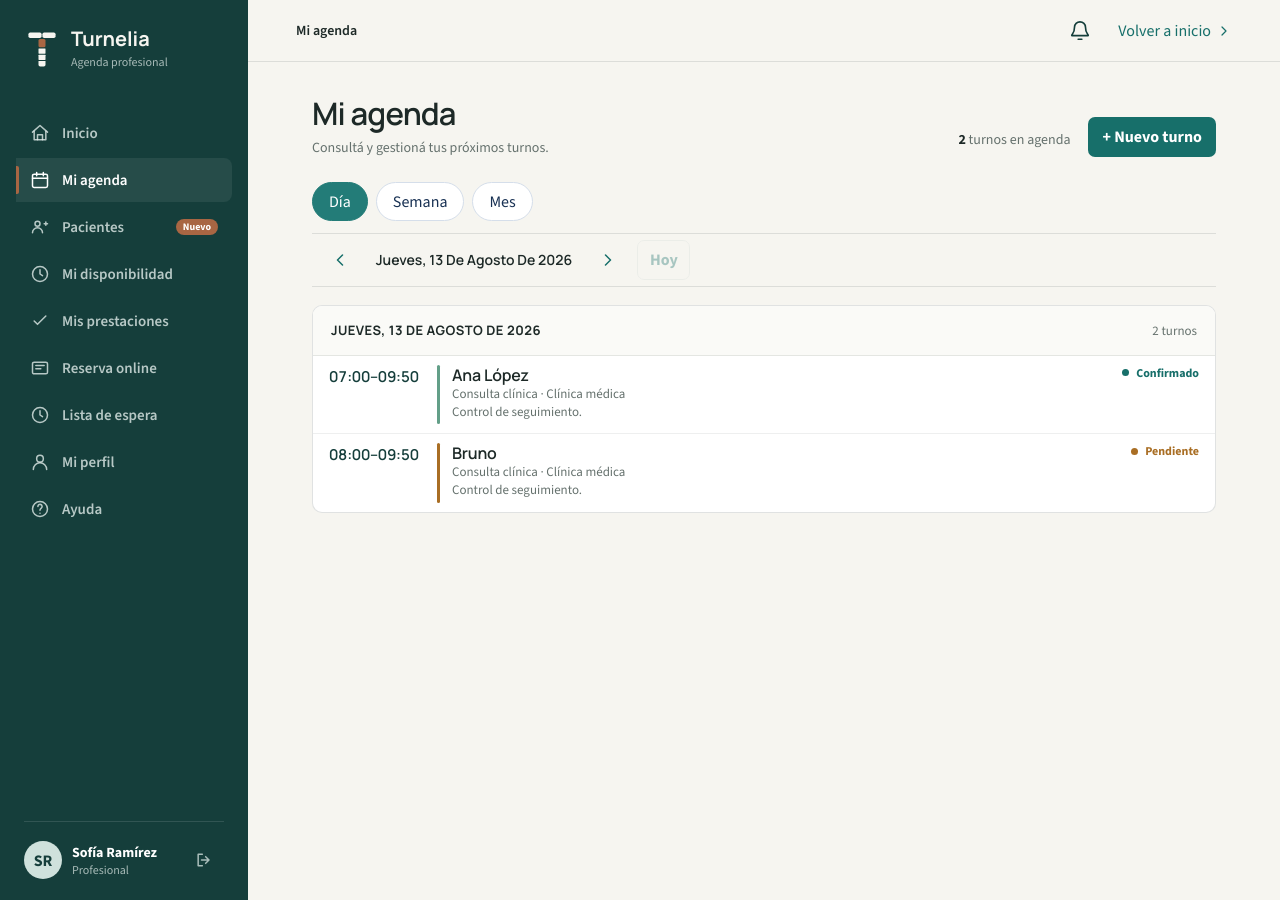
it: agenda propia profesional Signature › expande una sola fila activa por toque o teclado
Click the element labelled "Ana López": (764, 395) [313, 356, 1215, 434]
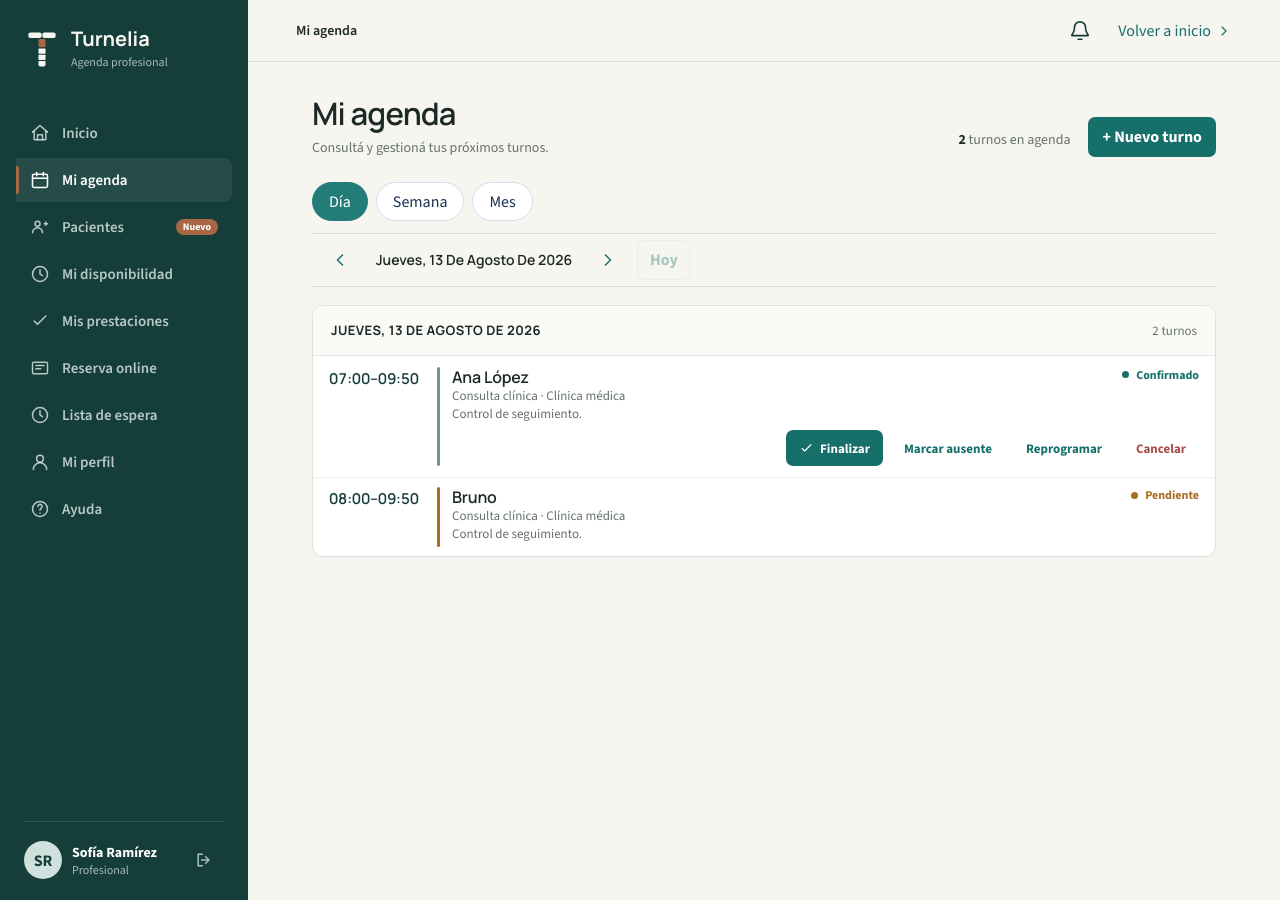
Now the element labelled "Ana López" is expanded, box [313, 356, 1215, 478]
Press Space in the element labelled "Bruno", box [313, 478, 1215, 556]
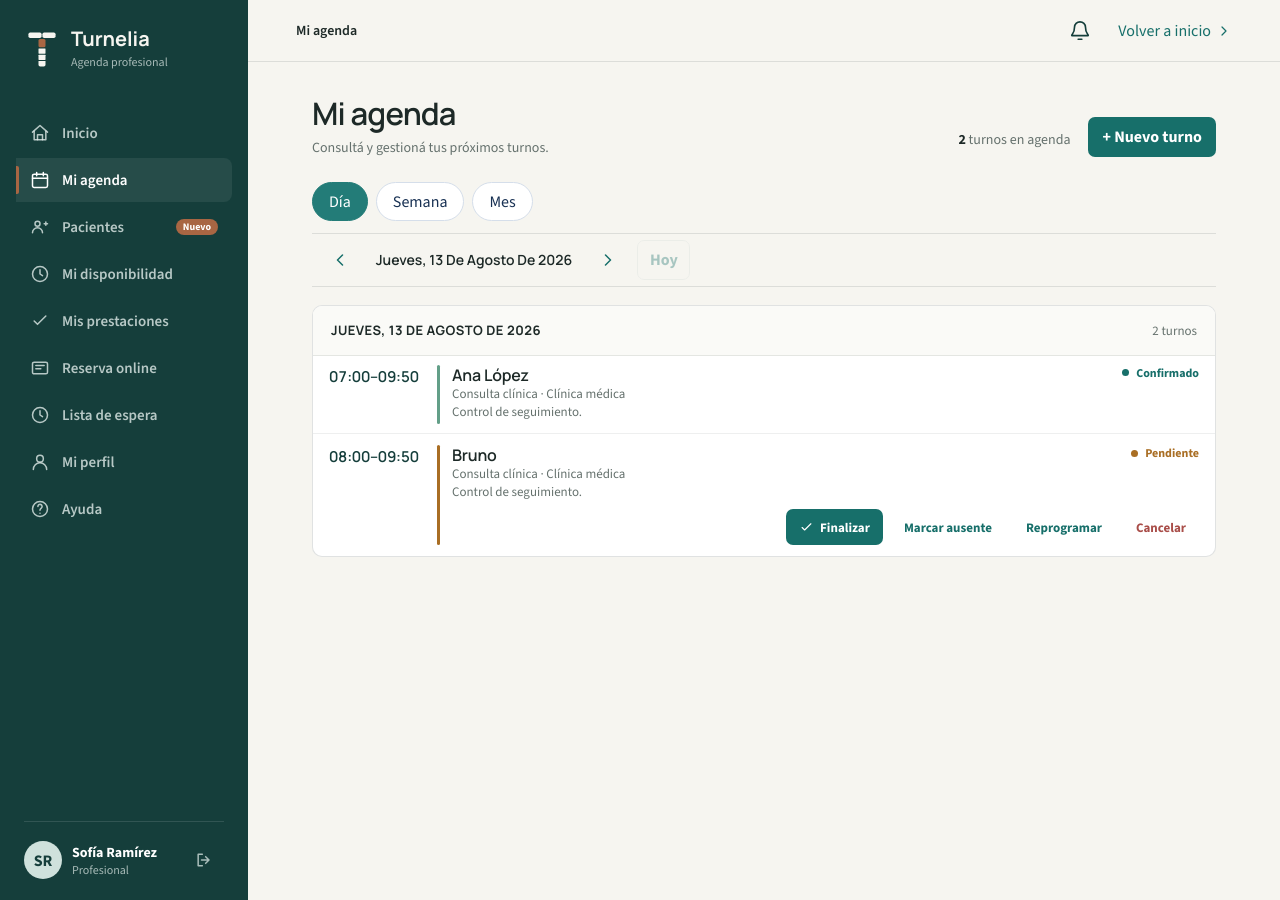
Now the element labelled "Ana López" is collapsed, box [313, 356, 1215, 434]
Now the element labelled "Bruno" is expanded, box [313, 434, 1215, 556]
